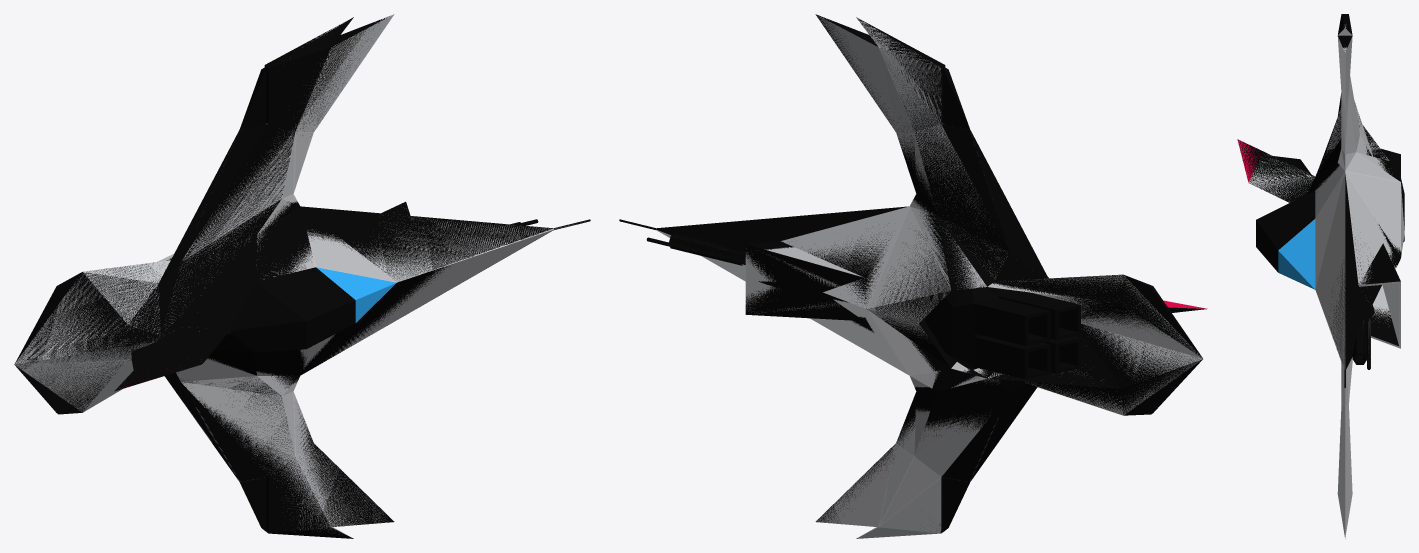
Rendered from tancho_model.glb.
3 renders of one model, left to right at view 1: azimuth 30°, elevation 25°; view 2: azimuth 150°, elevation 25°; view 3: azimuth 270°, elevation 25°, orthographic. The views are drawn at different scales.
Parts seen in each view (by area): view 1: body, bodyuv, aileron.l, aileron.r, elevator.l, elevator.r; view 2: body, bodyuv, engine, aileron.l, elevator.l, aileron.r, elevator.r; view 3: bodyuv, body, engine, vertical.
Part boxes in pixels (<box>): body: <box>14,16,590,538</box>; bodyuv: <box>15,14,588,536</box>; aileron.l: <box>240,66,266,129</box>; aileron.r: <box>240,477,266,531</box>; elevator.l: <box>15,272,81,362</box>; elevator.r: <box>15,365,82,414</box>; body: <box>619,14,1206,533</box>; bodyuv: <box>620,14,1207,538</box>; engine: <box>924,287,1080,379</box>; aileron.l: <box>943,66,969,129</box>; elevator.l: <box>1124,275,1202,357</box>; aileron.r: <box>943,477,969,531</box>; elevator.r: <box>1124,359,1202,415</box>; bodyuv: <box>1237,24,1404,538</box>; body: <box>1237,14,1401,387</box>; engine: <box>1381,148,1404,241</box>; vertical: <box>1273,156,1311,174</box>.
Size of the model in its own units: 17.2 by 14.8 by 4.5.
8 materials, 8 textured.
